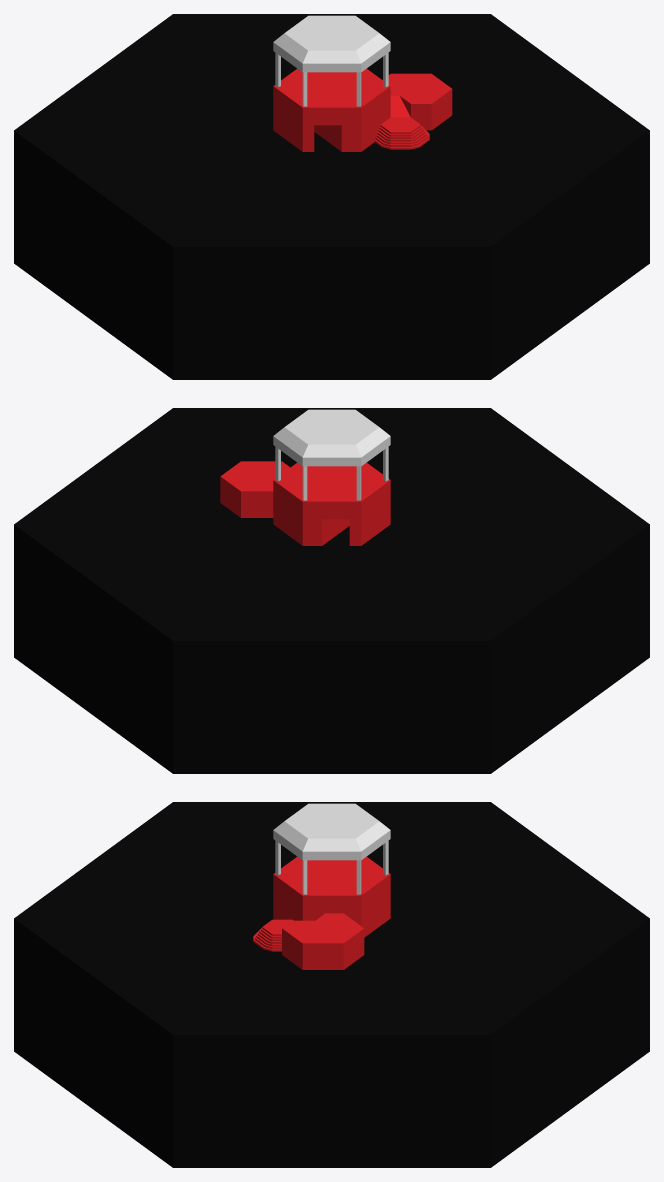
The picture shows the model from 3 angles, top to bottom: view 1: azimuth 30°, elevation 25°; view 2: azimuth 150°, elevation 25°; view 3: azimuth 270°, elevation 25°; orthographic projection.
Visible parts, largest first — view 1: Circle, Cylinder, Cylinder.003, Cylinder.001, Cylinder.002, Cube; view 2: Circle, Cylinder, Cylinder.003, Cylinder.001, Cube; view 3: Circle, Cylinder, Cylinder.003, Cylinder.001, Cube, Cylinder.002.
Boxes of the visible parts, <box> form: Circle: <box>14,14,649,379</box>; Cylinder: <box>273,68,390,151</box>; Cylinder.003: <box>273,15,390,72</box>; Cylinder.001: <box>382,73,452,130</box>; Cylinder.002: <box>374,117,429,149</box>; Cube: <box>275,52,388,106</box>; Circle: <box>14,408,649,773</box>; Cylinder: <box>273,462,390,545</box>; Cylinder.003: <box>273,409,390,466</box>; Cylinder.001: <box>220,461,289,517</box>; Cube: <box>275,446,388,500</box>; Circle: <box>14,802,649,1167</box>; Cylinder: <box>273,856,390,937</box>; Cylinder.003: <box>273,803,390,860</box>; Cylinder.001: <box>282,913,364,969</box>; Cube: <box>275,840,388,894</box>; Cylinder.002: <box>253,919,293,951</box>.
Size of the model in its own units: 11258 by 5194 by 13000.
